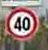limite 40: (5, 6, 38, 41)
